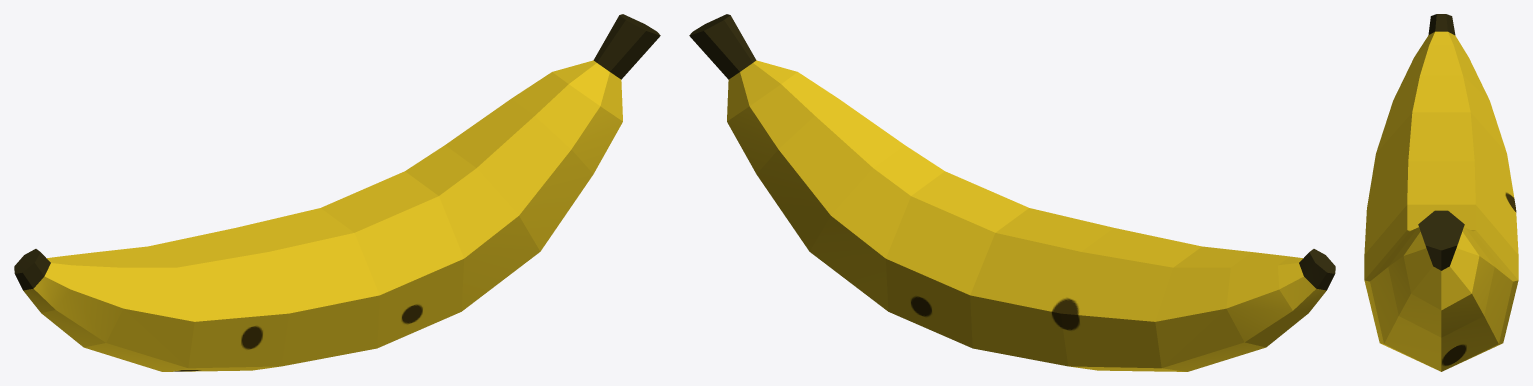
Rendered from banana.FBX.
3 renders of one model, left to right at view 1: azimuth 30°, elevation 25°; view 2: azimuth 150°, elevation 25°; view 3: azimuth 270°, elevation 25°, orthographic.
Visible parts, largest first — view 1: banana; view 2: banana; view 3: banana.
Boxes of the visible parts, left/top/right/bottom form: banana: left=14, top=14, right=660, bottom=371; banana: left=689, top=14, right=1335, bottom=371; banana: left=1364, top=14, right=1518, bottom=371.
Size of the model in its own units: 132 by 52.43 by 27.12.
Materials: 1 (1 with a texture image).
